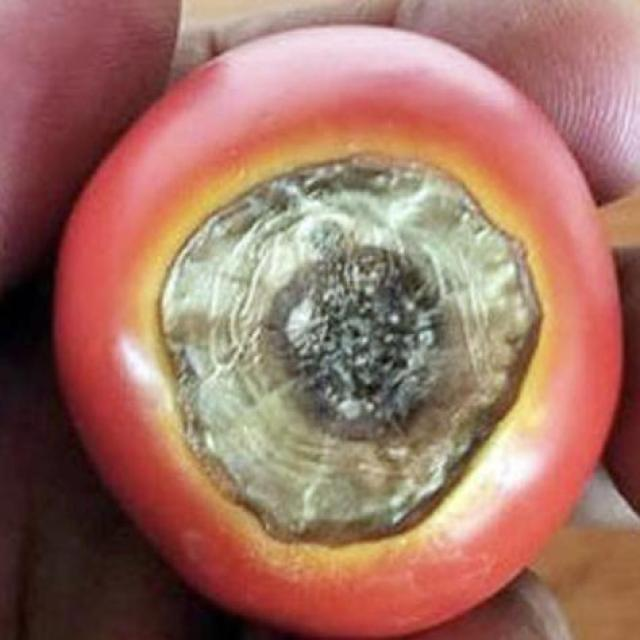Blossom End Rot Fruit: (102, 94, 363, 367)
